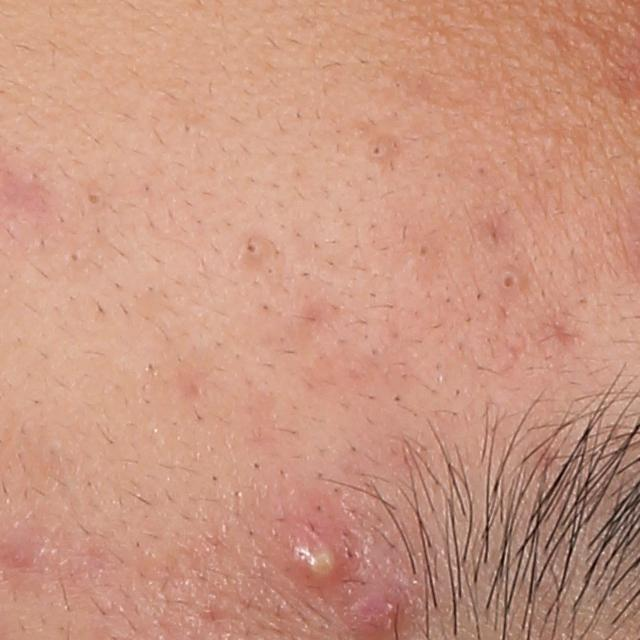comedo: (491, 266, 527, 301), (238, 231, 267, 263), (83, 186, 107, 215), (413, 237, 436, 265), (365, 138, 390, 163)
pustule: (283, 510, 355, 595)
